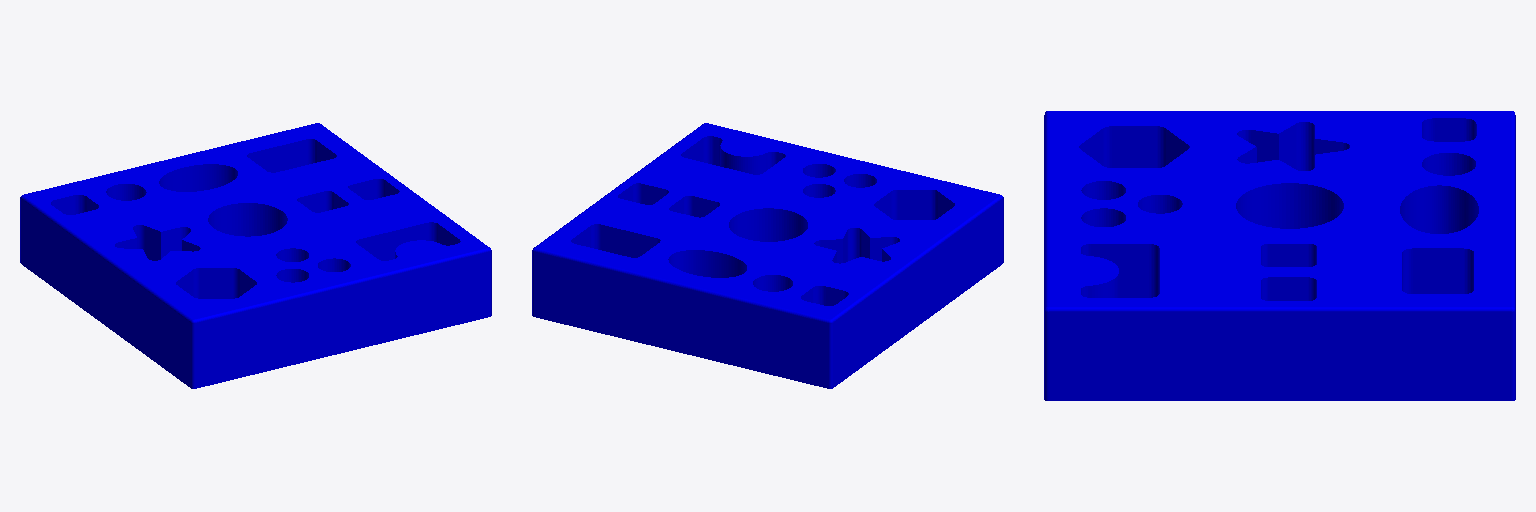
robot.urdf — board1_base:
<?xml version="1.0"?>
<robot name="board1_base">
    <link name="board1_base">
        <visual>
            <origin xyz="0 0 0 " rpy=" 0 0 0"/>
            <geometry>
                <mesh filename="../meshes/SIMO_Board1_Base.stl" scale="0.001 0.001 0.001"/>
            </geometry>
            <material name="red">
                <color rgba="0.0 0.0 1.0 1.0"/>
            </material>
        </visual>
        <collision>
            <origin xyz="0 0 0" rpy="0 0 0"/>
            <geometry>
                <mesh filename="../meshes/SIMO_Board1_Base.stl" scale="0.001 0.001 0.001"/>
            </geometry>
        </collision>
    </link>
</robot>

--- What the picture shows (computed from the rendered views, not written in the file) ---
The picture shows the robot from 3 angles, left to right: view 1: azimuth 30°, elevation 25°; view 2: azimuth 150°, elevation 25°; view 3: azimuth 270°, elevation 25°; orthographic projection.
Robot: board1_base — 1 links, 0 joints (none); root link board1_base; default pose: every joint at zero.
Visible links, largest first — view 1: board1_base; view 2: board1_base; view 3: board1_base.
Boxes of the visible links, <box> form: board1_base: <box>20,123,491,388</box>; board1_base: <box>532,123,1003,388</box>; board1_base: <box>1044,111,1515,400</box>.
Bounding box of the posed robot: 0.23 × 0.23 × 0.05 m (x, y, z).
1 mesh visuals loaded from 1 distinct referenced files (1 ASCII STL).
